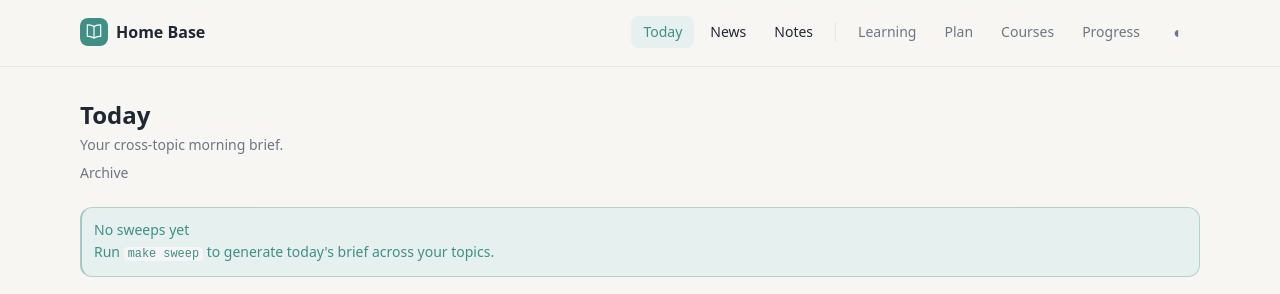
Scenario: scroll reset on navigation (F2) › leaves News alone — its own restore owns that offset
Expected: the text "No sweeps yet" is shown, [94,220,189,239]
Click the link "News": point(728, 32) [710,22,746,41]
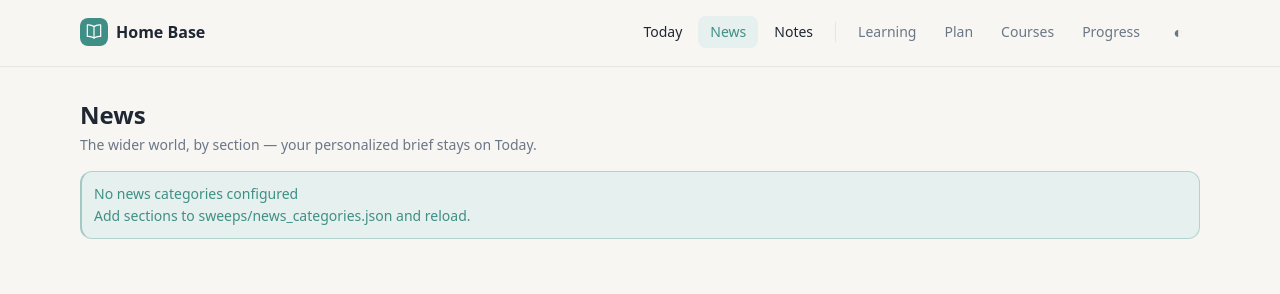
Expected: the heading "News" is shown, [80,98,146,131]
